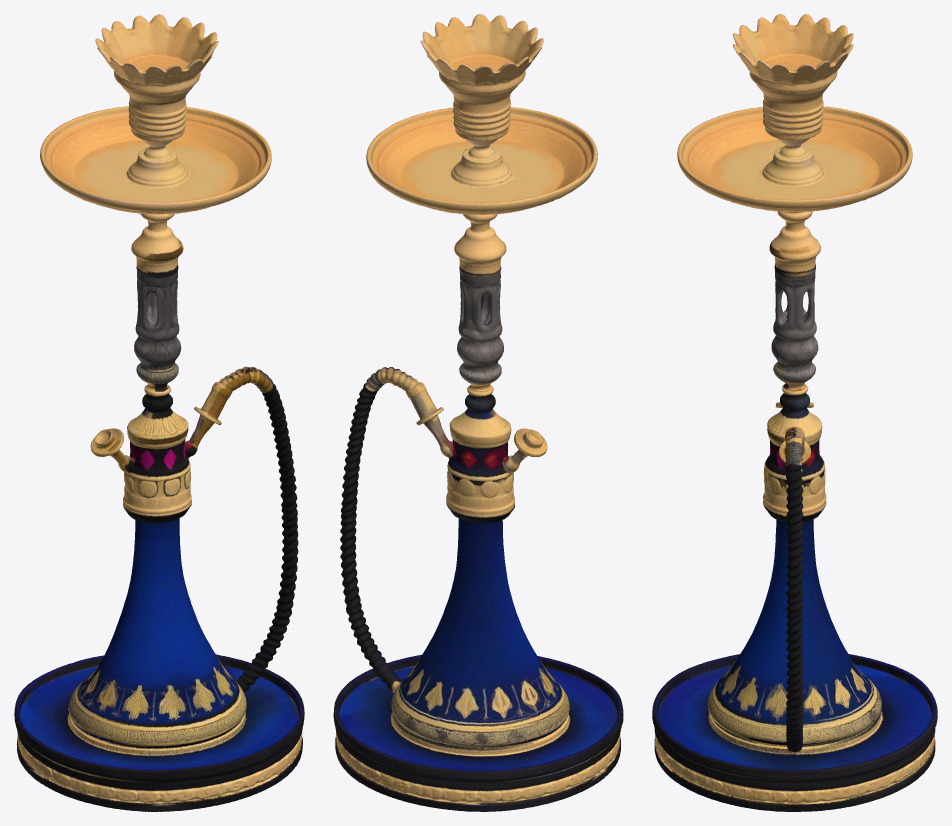
The model's file is hookah_sultan.glb.
The picture shows the model from 3 angles, left to right: view 1: azimuth 30°, elevation 25°; view 2: azimuth 150°, elevation 25°; view 3: azimuth 270°, elevation 25°; orthographic projection.
Bounding box in the file's own units: 0.7319 × 1.9 × 0.6911.
1 material, 1 textured.
